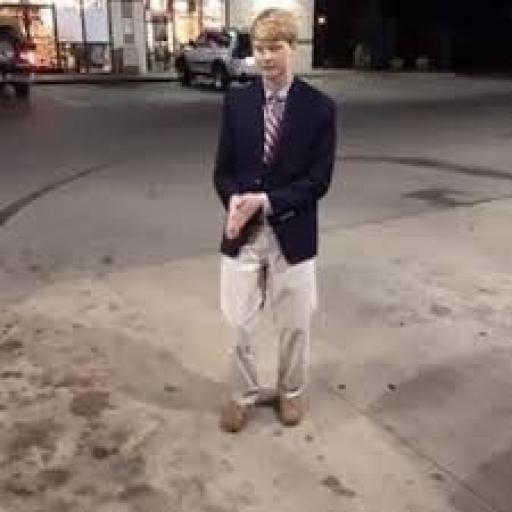dancing: (207, 4, 341, 434)
